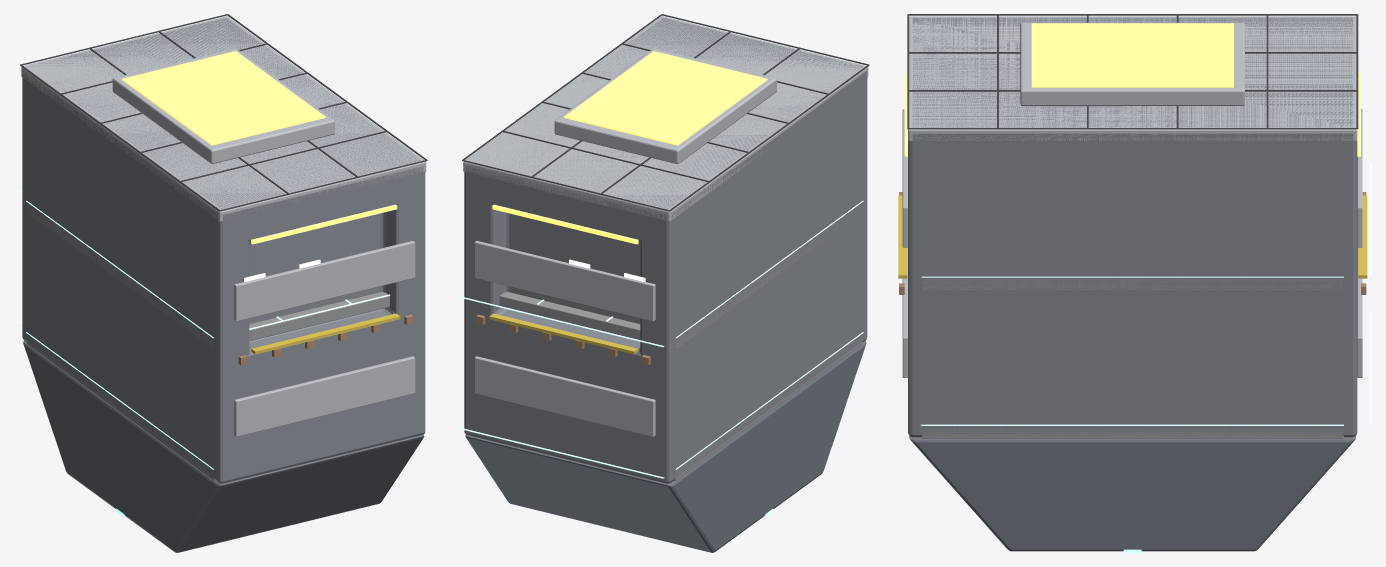
File: ship_hangar_5x3.glb
The picture shows the model from 3 angles, left to right: view 1: azimuth 30°, elevation 25°; view 2: azimuth 150°, elevation 25°; view 3: azimuth 270°, elevation 25°; orthographic projection. The views are drawn at different scales.
Visible parts, largest first — view 1: ext_hull, ext_hull_belly, ext_deck_top, ext_armor_plates, ext_launch_glow, ext_launch_frame, int_deck_upper, ext_deck_grid, int_deck_lower, ext_door_hazard0, ext_door_glow0, int_grid_33 (+1 smaller); view 2: ext_hull, ext_hull_belly, ext_deck_top, ext_armor_plates, ext_launch_glow, ext_launch_frame, int_deck_upper, ext_deck_grid, int_deck_lower, ext_door_hazard2, int_grid_33, ext_door_glow2 (+1 smaller); view 3: ext_hull, ext_hull_belly, ext_deck_top, ext_launch_glow, ext_launch_frame, int_deck_lower, int_deck_upper, ext_deck_grid, ext_armor_plates, int_grid_14, int_grid_33, ext_door_hazard2 (+1 smaller).
Boxes of the visible parts, x1,y1,x2,y2 form: ext_hull: [22, 17, 425, 483]; ext_hull_belly: [23, 341, 424, 552]; ext_deck_top: [21, 16, 426, 222]; ext_armor_plates: [234, 240, 415, 436]; ext_launch_glow: [122, 51, 325, 145]; ext_launch_frame: [112, 48, 334, 164]; int_deck_upper: [27, 203, 389, 348]; ext_deck_grid: [20, 14, 427, 211]; int_deck_lower: [27, 336, 215, 481]; ext_door_hazard0: [251, 313, 400, 354]; ext_door_glow0: [251, 204, 397, 244]; int_grid_33: [14, 189, 390, 338]; ext_hull: [464, 17, 867, 483]; ext_hull_belly: [465, 341, 866, 552]; ext_deck_top: [463, 16, 868, 222]; ext_armor_plates: [474, 241, 655, 436]; ext_launch_glow: [564, 51, 767, 145]; ext_launch_frame: [554, 48, 776, 164]; int_deck_upper: [499, 214, 854, 348]; ext_deck_grid: [462, 14, 869, 211]; int_deck_lower: [674, 341, 862, 481]; ext_door_hazard2: [489, 313, 638, 354]; int_grid_33: [456, 200, 863, 347]; ext_door_glow2: [492, 204, 638, 244]; ext_hull: [908, 17, 1357, 437]; ext_hull_belly: [909, 436, 1355, 551]; ext_deck_top: [908, 16, 1357, 141]; ext_launch_glow: [1031, 23, 1233, 87]; ext_launch_frame: [1020, 22, 1244, 105]; int_deck_lower: [921, 426, 1343, 438]; int_deck_upper: [922, 278, 1342, 289]; ext_deck_grid: [907, 14, 1358, 129]; ext_armor_plates: [902, 109, 1362, 377]; int_grid_14: [920, 310, 1371, 425]; int_grid_33: [921, 162, 1371, 277]; ext_door_hazard2: [1358, 195, 1367, 278].
Size of the model in its own units: 3.02 by 5.42 by 5.27.
